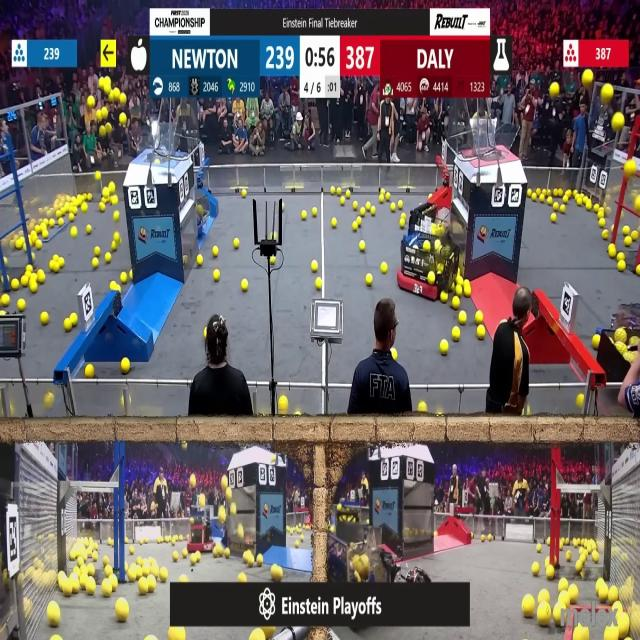ball_airborne: (614, 112, 625, 130), (625, 160, 636, 178), (602, 86, 612, 103), (583, 70, 594, 85), (551, 84, 560, 98), (218, 508, 226, 523), (104, 76, 111, 91), (231, 504, 238, 516), (635, 196, 640, 212), (221, 477, 227, 490), (118, 94, 125, 105), (89, 97, 96, 108), (100, 127, 107, 138), (119, 112, 125, 124), (200, 494, 206, 506), (189, 476, 195, 488), (97, 109, 103, 120), (225, 488, 231, 499), (113, 90, 119, 100), (106, 125, 112, 135), (96, 172, 102, 181)
ball_ground: (523, 596, 535, 619), (116, 600, 128, 622), (48, 604, 59, 628), (537, 608, 549, 628), (568, 587, 578, 604), (138, 577, 148, 594), (573, 628, 587, 640), (272, 565, 283, 580), (102, 582, 112, 597), (87, 582, 97, 597), (554, 609, 562, 627), (598, 588, 607, 604), (120, 357, 129, 372), (44, 393, 53, 408), (608, 588, 617, 603), (278, 396, 288, 409), (72, 581, 81, 594), (442, 341, 450, 355), (87, 363, 95, 377), (478, 325, 486, 339), (40, 313, 49, 325), (559, 578, 568, 590), (576, 393, 583, 408), (608, 245, 616, 258), (161, 568, 169, 581), (70, 314, 78, 327), (148, 580, 156, 593), (110, 576, 118, 589), (538, 591, 547, 602), (474, 312, 482, 324), (545, 567, 553, 579), (37, 272, 45, 284), (419, 400, 427, 412), (19, 277, 27, 289), (129, 570, 137, 582), (65, 319, 72, 332), (453, 327, 460, 340), (593, 337, 600, 350), (247, 554, 254, 567), (1, 294, 9, 305), (17, 300, 24, 312), (316, 278, 323, 290), (459, 312, 466, 324), (532, 563, 539, 575), (453, 296, 460, 308), (575, 560, 582, 572), (239, 572, 247, 582), (192, 554, 200, 564), (142, 566, 150, 576), (619, 262, 626, 273), (463, 285, 470, 296), (255, 555, 262, 566), (213, 271, 220, 282), (31, 282, 38, 293), (93, 257, 100, 268), (71, 226, 78, 237), (49, 263, 56, 274), (136, 566, 143, 577), (242, 280, 248, 292), (365, 274, 371, 286), (593, 552, 599, 564), (105, 252, 112, 262), (11, 280, 18, 290), (172, 552, 179, 562), (105, 566, 112, 576), (586, 202, 593, 212), (108, 182, 115, 192), (312, 262, 318, 273), (359, 241, 365, 252), (120, 273, 126, 284), (443, 291, 449, 302), (110, 281, 116, 292), (456, 285, 462, 296), (60, 256, 66, 267), (382, 264, 388, 275), (90, 564, 96, 575), (179, 574, 187, 582), (302, 211, 309, 220), (103, 187, 110, 196), (392, 349, 397, 361), (602, 231, 608, 241), (212, 246, 218, 256), (198, 258, 204, 268), (598, 218, 604, 228), (113, 211, 119, 221), (632, 232, 638, 242), (270, 256, 277, 264), (68, 214, 75, 222), (619, 252, 626, 260), (95, 247, 101, 256), (88, 224, 94, 233), (100, 203, 106, 212), (111, 197, 117, 206), (42, 231, 48, 240), (81, 204, 87, 213), (390, 203, 396, 212), (566, 553, 572, 562), (182, 255, 188, 264), (152, 567, 158, 576), (235, 239, 240, 249), (331, 218, 336, 228), (552, 213, 557, 223), (34, 238, 39, 248), (224, 549, 229, 559), (626, 238, 632, 246), (312, 208, 318, 216), (560, 206, 566, 214), (113, 234, 119, 242), (624, 226, 630, 234), (380, 194, 386, 202), (182, 550, 188, 558), (28, 266, 34, 274), (397, 202, 403, 210), (88, 192, 94, 200), (329, 186, 335, 194), (93, 553, 99, 561), (48, 218, 54, 226), (353, 221, 358, 230), (360, 208, 365, 217), (353, 202, 358, 211), (539, 193, 544, 202), (546, 197, 551, 206), (356, 217, 362, 224), (554, 188, 560, 195), (522, 411, 528, 418), (435, 412, 442, 418), (636, 266, 640, 276), (341, 199, 346, 207), (536, 542, 541, 550), (242, 189, 247, 197), (532, 192, 537, 200), (554, 203, 559, 211), (400, 218, 404, 228), (576, 199, 581, 207), (563, 197, 568, 205), (346, 190, 351, 198), (108, 537, 113, 545), (457, 276, 462, 284), (104, 557, 109, 565), (527, 187, 532, 195), (274, 233, 279, 241), (370, 207, 374, 216), (112, 242, 116, 251), (130, 272, 134, 281), (386, 191, 390, 200), (60, 218, 65, 225), (544, 558, 549, 565), (488, 534, 493, 541), (294, 540, 299, 547), (535, 187, 540, 194), (123, 536, 128, 543), (179, 534, 184, 541), (4, 256, 8, 264), (131, 546, 135, 554), (545, 537, 549, 545), (560, 542, 564, 550), (32, 252, 36, 260), (428, 192, 432, 200), (366, 203, 370, 211), (164, 538, 168, 546), (51, 636, 58, 640), (146, 636, 153, 640), (472, 534, 476, 541), (0, 311, 4, 317), (482, 535, 486, 541), (138, 558, 142, 564), (299, 536, 303, 542), (140, 539, 144, 544)
goal: (465, 123, 520, 160), (126, 128, 186, 160)
robot_blue: (197, 196, 220, 238)
robot_red: (398, 214, 458, 302), (186, 518, 213, 552)
